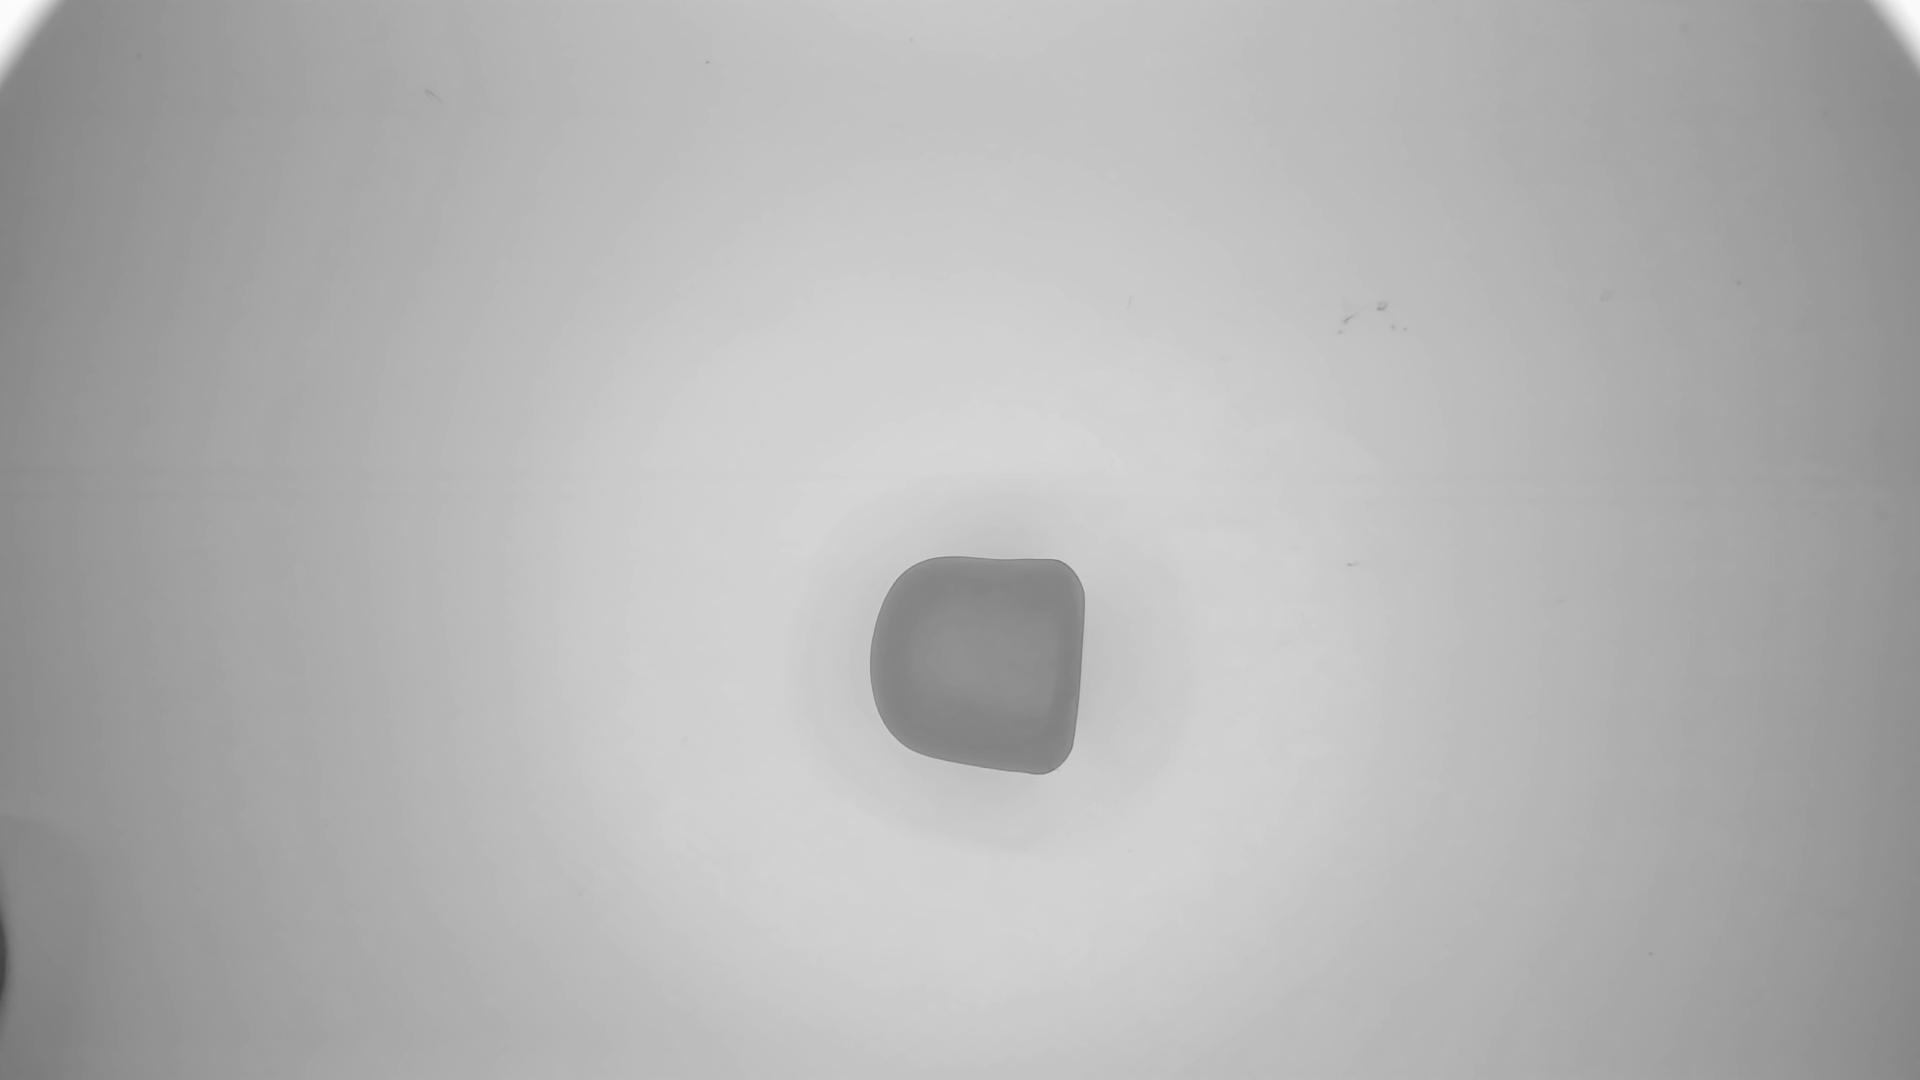normal: (866, 553, 1088, 781)
